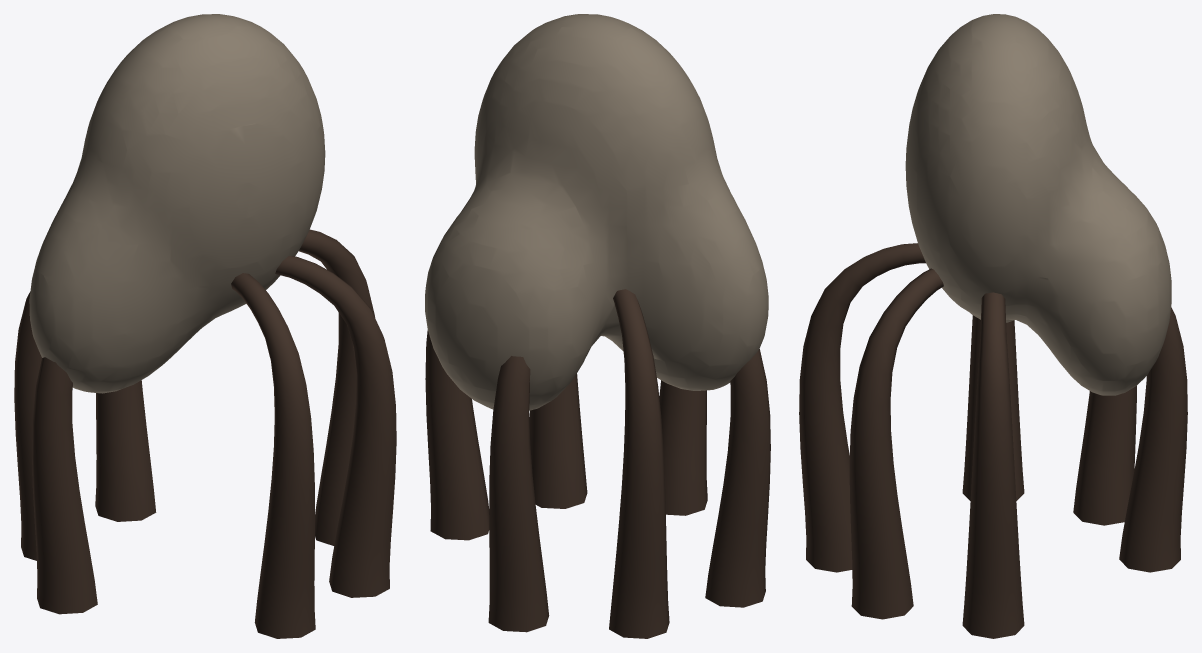
File: quaternius-ultimate-space-pack-tree-blob-1-transformed.glb
The picture shows the model from 3 angles, left to right: view 1: azimuth 30°, elevation 25°; view 2: azimuth 150°, elevation 25°; view 3: azimuth 270°, elevation 25°; orthographic projection.
Visible parts, largest first — view 1: Tree_Blob_1; view 2: Tree_Blob_1; view 3: Tree_Blob_1.
Part boxes in pixels (<box>): Tree_Blob_1: <box>14,14,396,638</box>; Tree_Blob_1: <box>425,14,770,638</box>; Tree_Blob_1: <box>799,14,1187,638</box>.
Bounding box in the file's own units: 3.86 × 5.88 × 3.86.
1 material, 1 textured.
